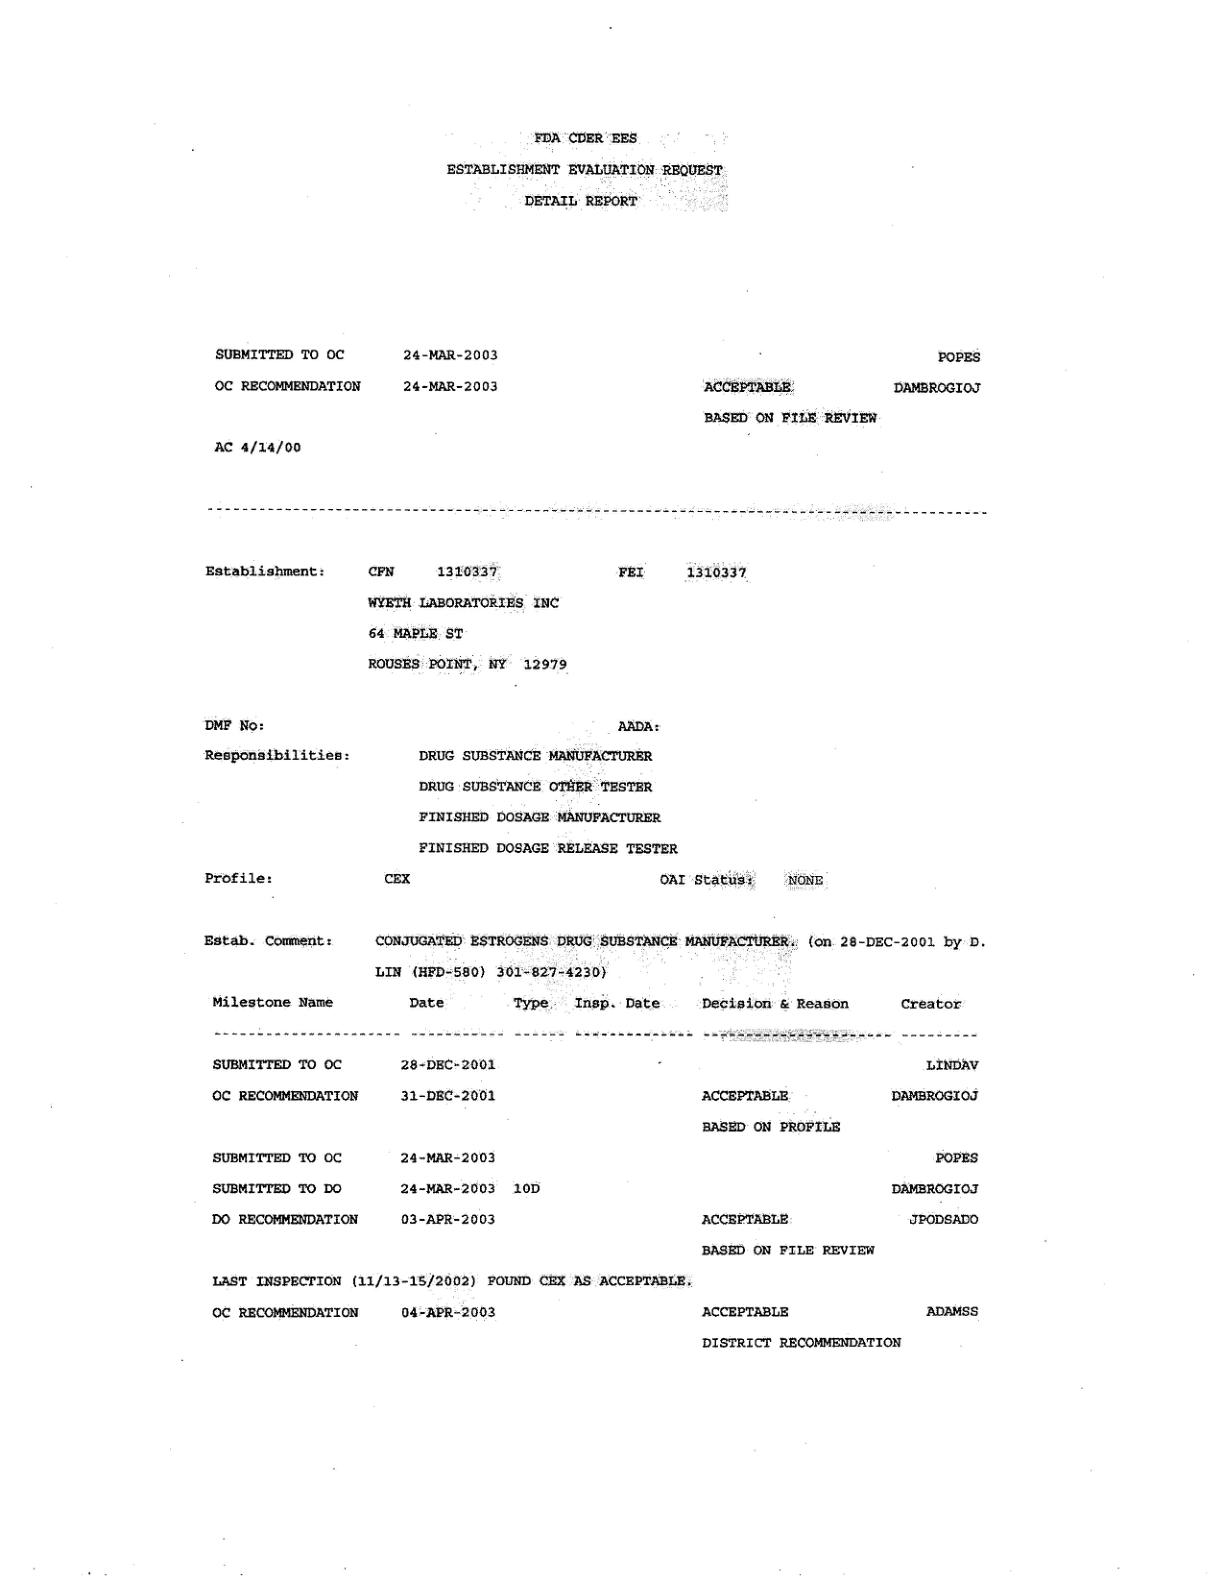nolines: (208, 990, 985, 1256), (205, 335, 988, 435), (198, 713, 685, 858), (198, 553, 746, 675)
